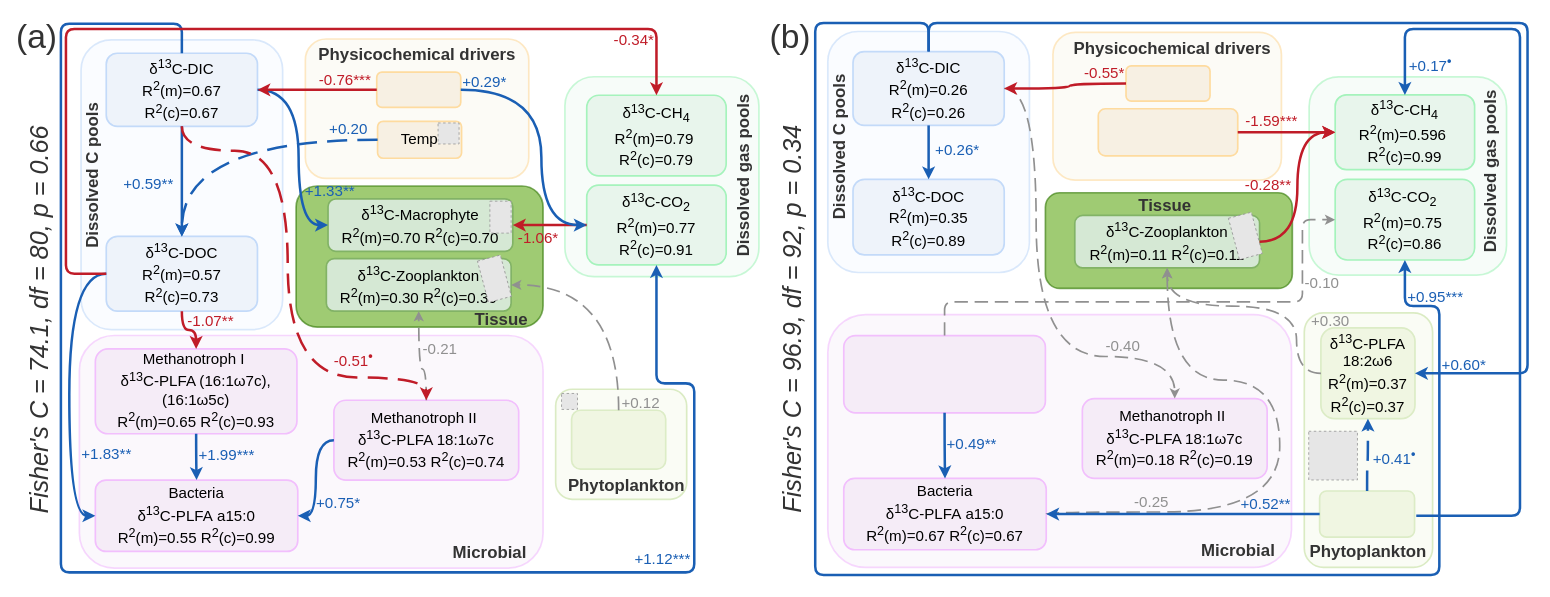
The diagram is 1550 pixels wide and 597 high, and some of its shapes have lost their labels. Grey dashed boxes stand in for pictures. Here are the shapes that lost their labels. From the top down, the centre of each, then its label:
At point 418,89: "TN".
At point 1167,83: "PO 4 -P".
At point 1167,132: "NO X -N composite (NO 3 -N), (NO 2 -N )".
At point 944,373: "Methanotroph I δ 13 C-PLFA (16:1ω7c), (16:1ω5c)".
At point 618,439: "δ 13 C-PLFA 18:2ω6".
At point 1366,514: "Chl a".
